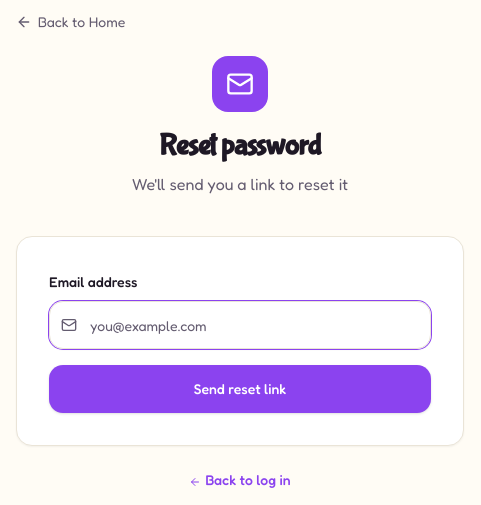
ForgotPassword › always shows the neutral success message, even when the adapter rejects
Type "a@b.c" into the field labelled "Email address". click: (240, 325)
box: [49,301,431,349]
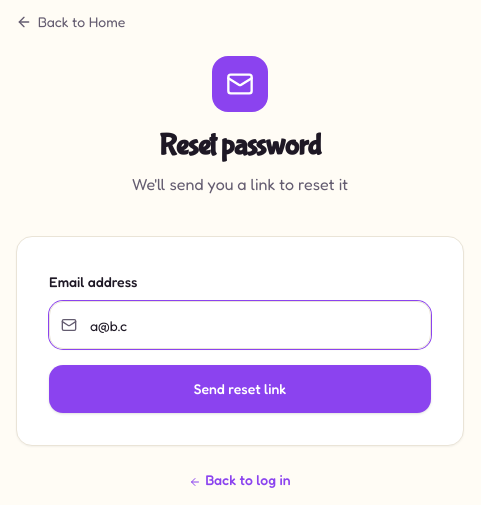
Click the button "Send reset link". click: click(240, 389)
box: [49,365,431,413]
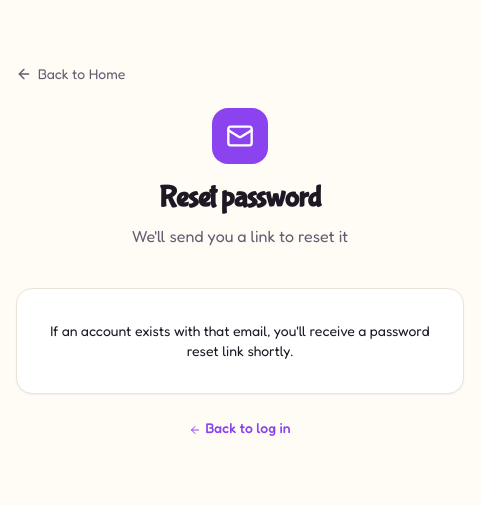
Result: the text "If an account exists with that email, you'll receive a password reset link shortly." is shown at [50,322,430,359]
